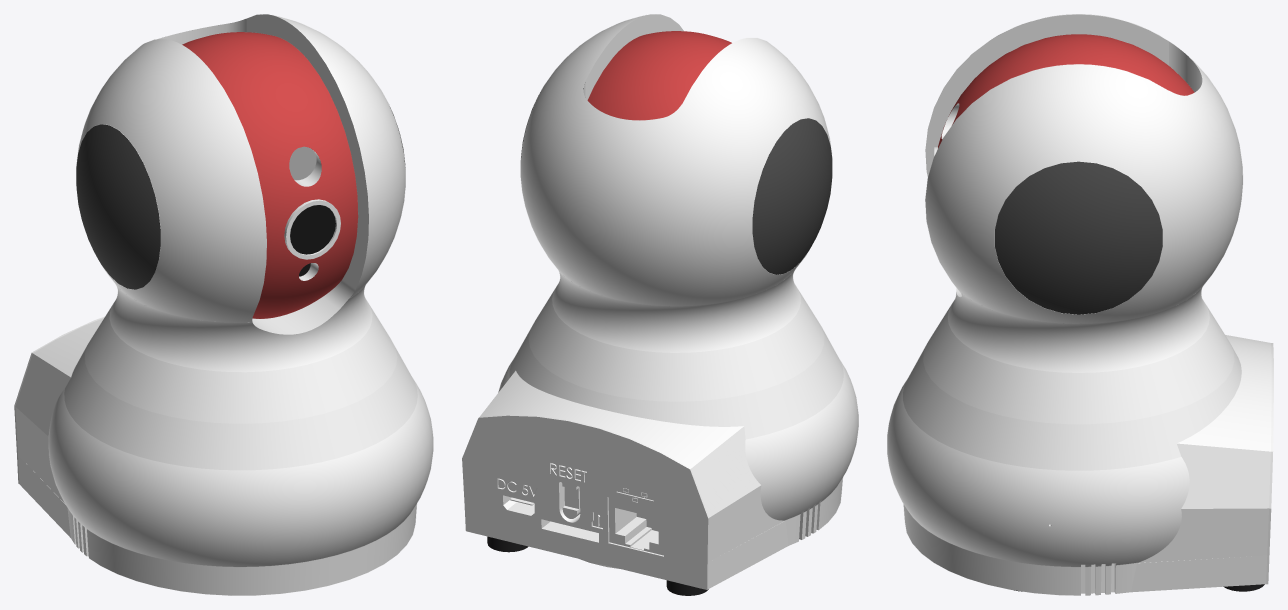
Rendered from camera.gltf.
3 views of the same model, side by side, from view 1: azimuth 30°, elevation 25°; view 2: azimuth 150°, elevation 25°; view 3: azimuth 270°, elevation 25° (orthographic). The views are drawn at different scales.
Visible parts, largest first — view 1: white, white_clonedChild, red spray paint, red spray paint_clonedChild, black spray paint, black spray paint_clonedChild, light grey low gloss plastic, white high gloss plastic, white high gloss plastic-2; view 2: white, white_clonedChild, light grey low gloss plastic, black spray paint, black spray paint_clonedChild, red spray paint, red spray paint_clonedChild, textured rubber; view 3: white, white_clonedChild, light grey low gloss plastic, black spray paint, black spray paint_clonedChild, red spray paint, red spray paint_clonedChild.
Boxes of the visible parts, bbox=[...] form: white: bbox=[48, 14, 433, 595]; white_clonedChild: bbox=[48, 14, 433, 595]; red spray paint: bbox=[182, 32, 358, 318]; red spray paint_clonedChild: bbox=[183, 32, 357, 318]; black spray paint: bbox=[76, 107, 405, 289]; black spray paint_clonedChild: bbox=[76, 124, 160, 289]; light grey low gloss plastic: bbox=[14, 124, 336, 556]; white high gloss plastic: bbox=[290, 205, 335, 276]; white high gloss plastic-2: bbox=[289, 146, 316, 180]; white: bbox=[498, 14, 858, 529]; white_clonedChild: bbox=[498, 14, 858, 529]; light grey low gloss plastic: bbox=[462, 118, 824, 589]; black spray paint: bbox=[521, 88, 832, 274]; black spray paint_clonedChild: bbox=[753, 118, 832, 274]; red spray paint: bbox=[587, 31, 731, 120]; red spray paint_clonedChild: bbox=[588, 31, 731, 119]; textured rubber: bbox=[487, 536, 708, 595]; white: bbox=[887, 14, 1242, 595]; white_clonedChild: bbox=[887, 14, 1242, 595]; light grey low gloss plastic: bbox=[934, 147, 1273, 595]; black spray paint: bbox=[995, 161, 1162, 314]; black spray paint_clonedChild: bbox=[995, 162, 1162, 314]; red spray paint: bbox=[938, 34, 1194, 147]; red spray paint_clonedChild: bbox=[938, 34, 1193, 147].
Bounding box in the file's own units: 0.085 × 0.1215 × 0.0857.
Materials: 10 (1 with a texture image).
